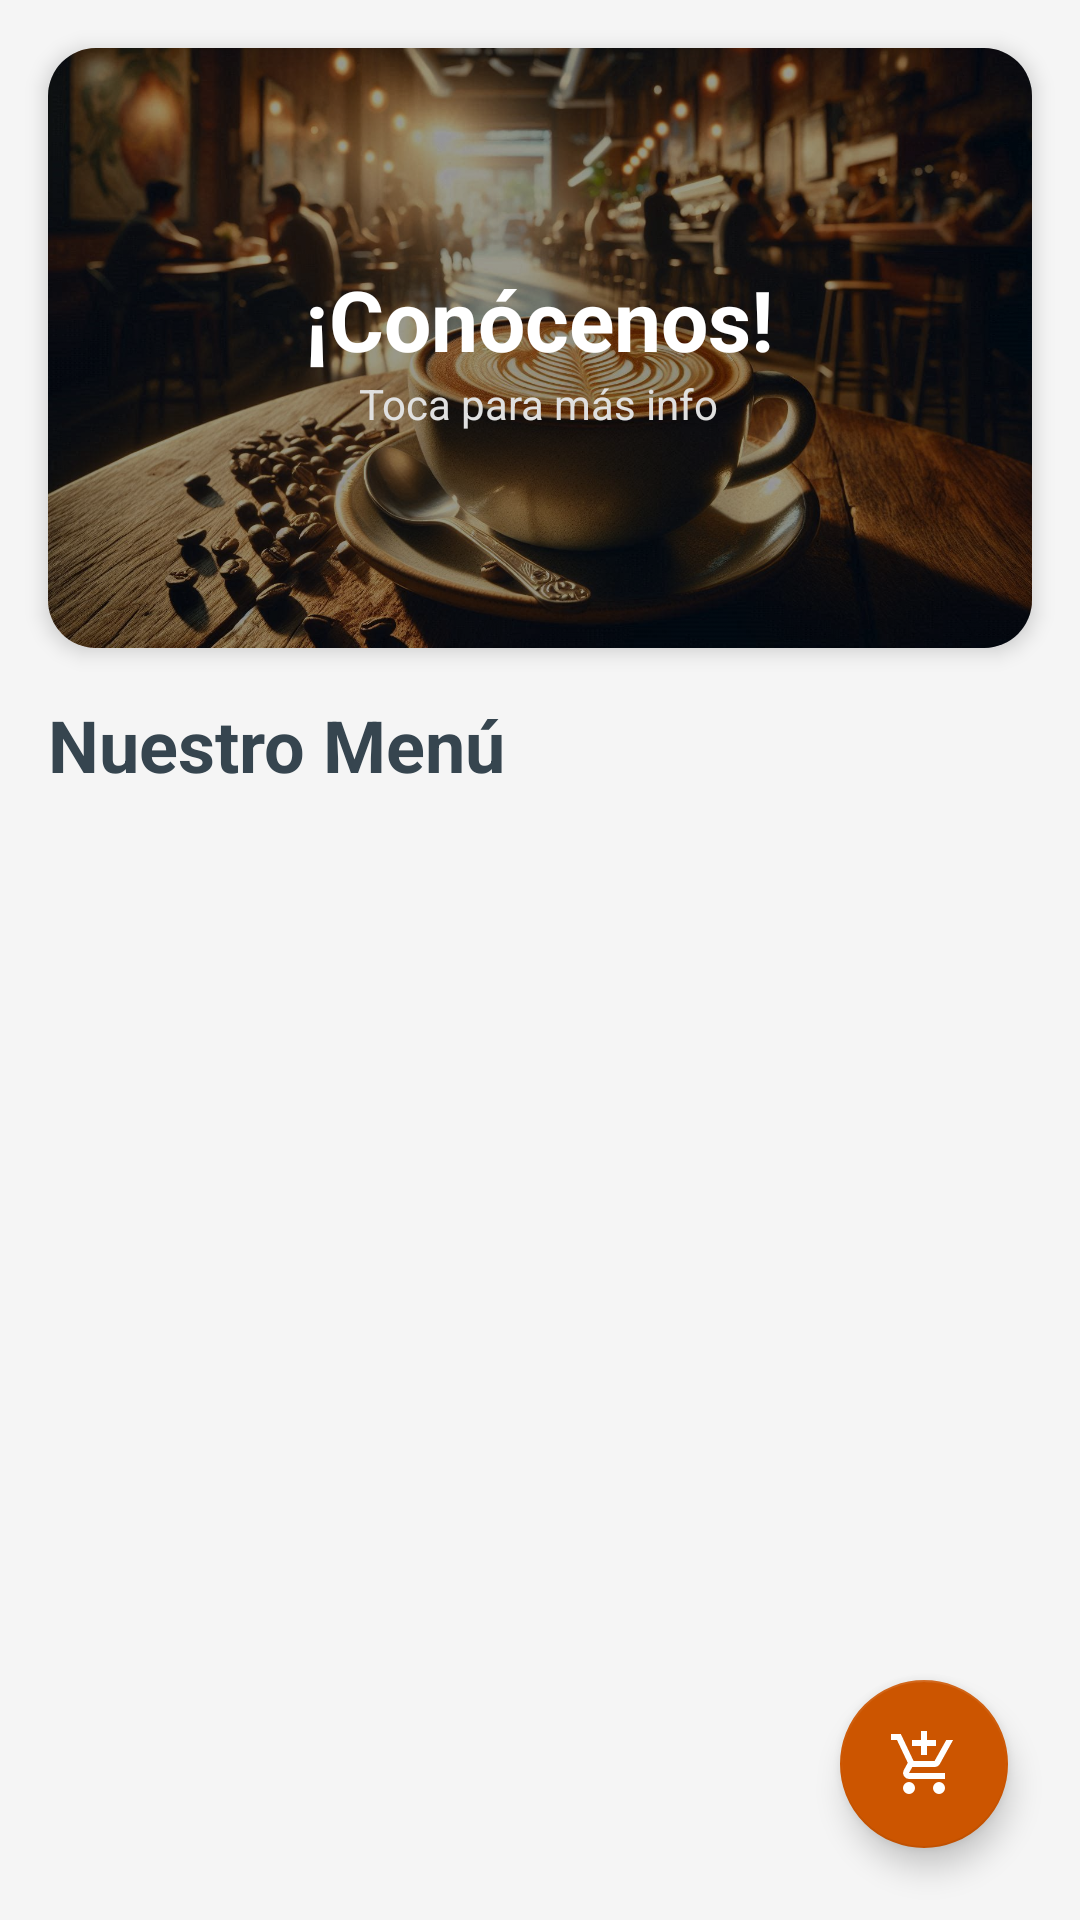

Icon bounding boxes for this 1080×1920 phone screenshot, format (x1, y1, x2, y2):
shopping cart: (840, 1680, 1008, 1848)
